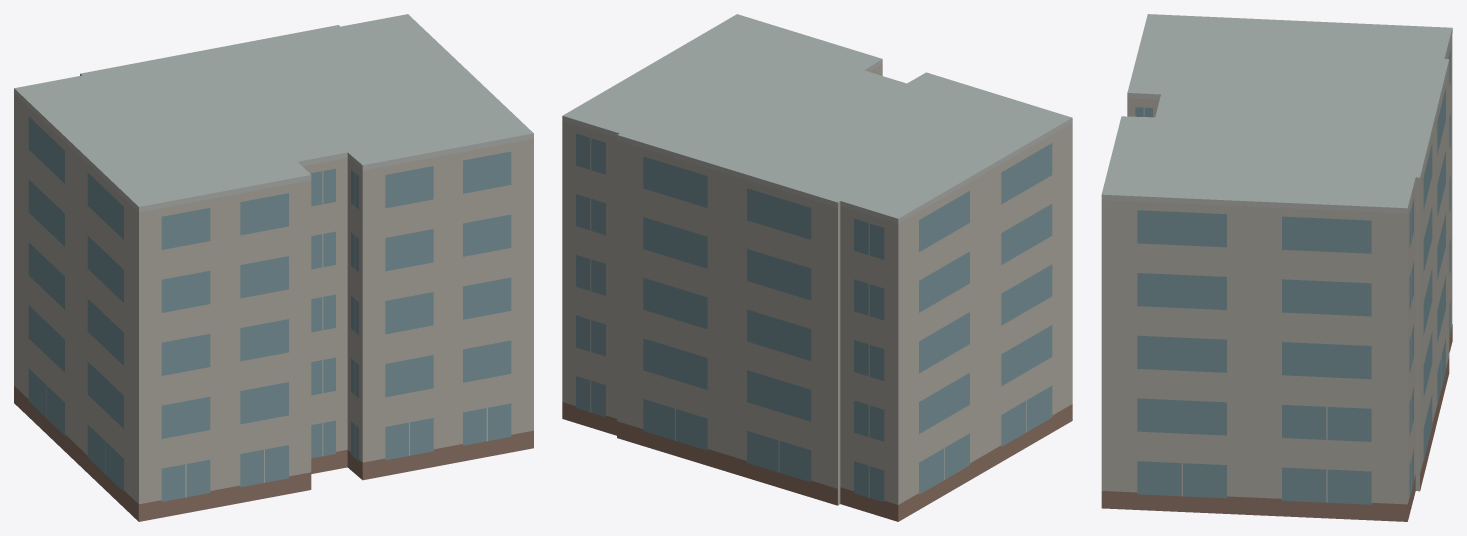
Rendered from survey-upis-32662594.glb.
The picture shows the model from 3 angles, left to right: view 1: azimuth 30°, elevation 25°; view 2: azimuth 150°, elevation 25°; view 3: azimuth 270°, elevation 25°; orthographic projection. The views are drawn at different scales.
Parts seen in each view (by area): view 1: survey-upis-32662594.tmp; view 2: survey-upis-32662594.tmp; view 3: survey-upis-32662594.tmp.
Boxes of the visible parts, box(x1,y1,x2,y2) form: survey-upis-32662594.tmp: box(14, 14, 533, 521); survey-upis-32662594.tmp: box(562, 14, 1072, 521); survey-upis-32662594.tmp: box(1101, 14, 1452, 521).
Bounding box in the file's own units: 19.13 × 14.4 × 14.61.
